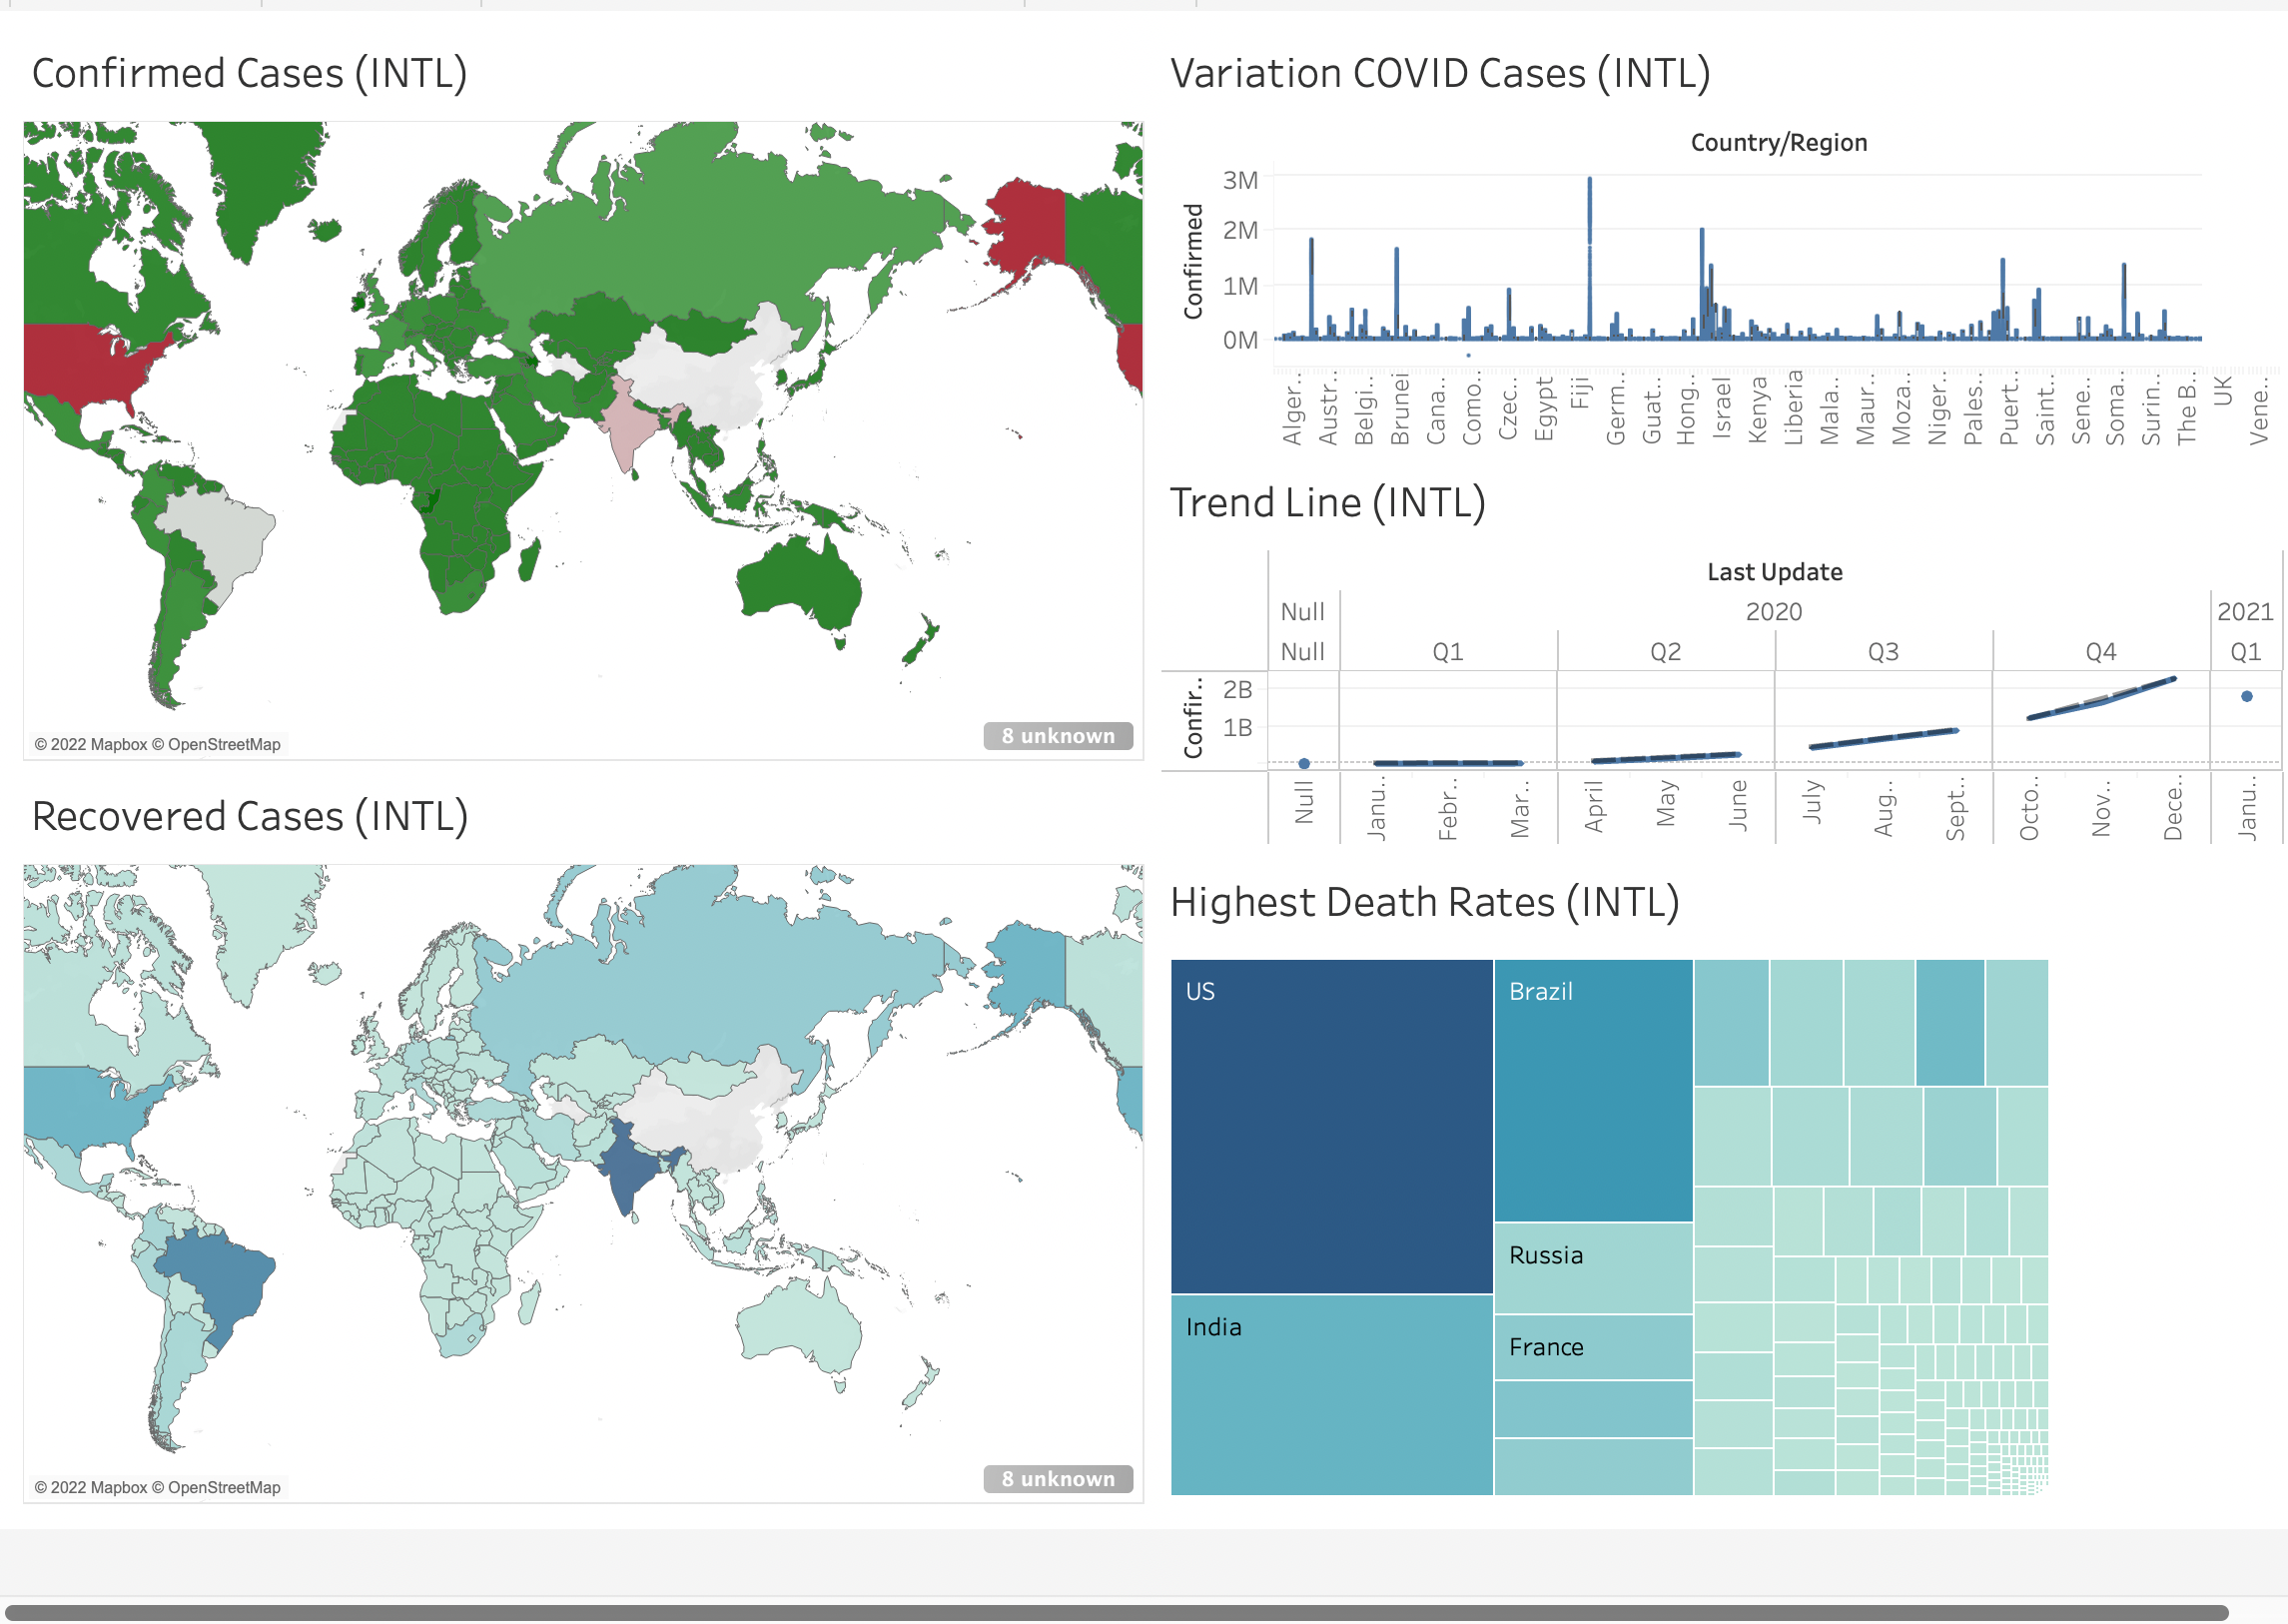

Layout of this report page (visuals, bound fields, positions):
{"tool":"tableau","page":{"name":"Dashboard (INTL)","canvas":[1000,1000],"units":"permille","ordinal":0},"visuals":[{"type":"worksheet","title":"Confirmed Cases (INTL)","mark":"Automatic","box":[6.1,10.5,433.3,489.5]},{"type":"worksheet","title":"Variation COVID Cases (INTL)","mark":"Circle","rows":["Confirmed"],"cols":["Country/Region"],"box":[439.4,10.5,433.3,282.9]},{"type":"legend","title":"Confirmed Cases (INTL)","param":"[federated.0rlqlvq1f8c1k0115ozau05ewsw5].[sum:Confirmed:qk]","box":[872.7,10.5,121.2,85.5]},{"type":"legend","title":"Recovered Cases (INTL)","param":"[federated.0rlqlvq1f8c1k0115ozau05ewsw5].[sum:Recovered:qk]","box":[872.7,96.1,121.2,85.5]},{"type":"legend","title":"Highest Death Rates (INTL)","param":"[federated.0rlqlvq1f8c1k0115ozau05ewsw5].[sum:Deaths:qk]","box":[872.7,181.6,121.2,85.5]},{"type":"worksheet","title":"Trend Line (INTL)","mark":"Line","rows":["Confirmed"],"cols":["Last Update","Last Update","Last Update"],"box":[439.4,293.4,433.3,263.2]},{"type":"worksheet","title":"Recovered Cases (INTL)","mark":"Automatic","box":[6.1,500,433.3,489.5]},{"type":"worksheet","title":"Highest Death Rates (INTL)","mark":"Automatic","box":[439.4,556.6,433.3,432.9]}]}

Visuals, with their boxes on the dashboard's canvas, which has no fixed pixel size, in thousandths of its width and height (x1, y1, x2, y2). These are canvas units, not pixel positions in the 2288x1624 screenshot, which may show the page scaled, cropped or inside an application window:
"Confirmed Cases (INTL)" worksheet: bbox=(6, 10, 439, 500)
"Variation COVID Cases (INTL)" worksheet (Circle marks): bbox=(439, 10, 873, 293)
"Confirmed Cases (INTL)" legend: bbox=(873, 10, 994, 96)
"Recovered Cases (INTL)" legend: bbox=(873, 96, 994, 182)
"Highest Death Rates (INTL)" legend: bbox=(873, 182, 994, 267)
"Trend Line (INTL)" worksheet (Line marks): bbox=(439, 293, 873, 557)
"Recovered Cases (INTL)" worksheet: bbox=(6, 500, 439, 990)
"Highest Death Rates (INTL)" worksheet: bbox=(439, 557, 873, 990)
